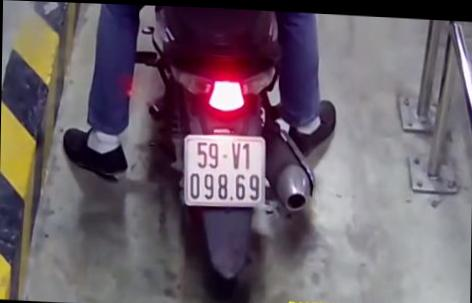LP: (182, 130, 267, 208)
